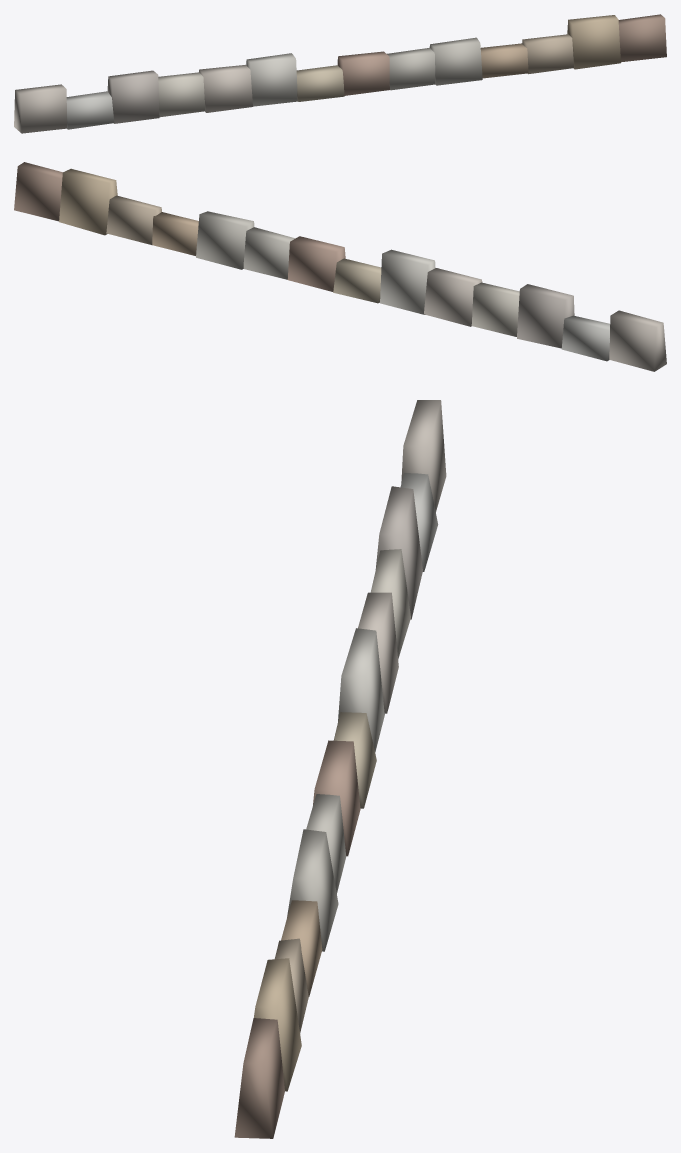
File: farm_2_-3_far.glb
3 views of the same model, one above another, from view 1: azimuth 30°, elevation 25°; view 2: azimuth 150°, elevation 25°; view 3: azimuth 270°, elevation 25° (orthographic). The views are drawn at different scales.
Parts seen in each view (by area): view 1: geometry_0; view 2: geometry_0; view 3: geometry_0.
Boxes of the visible parts, left/top/right/bottom form: geometry_0: left=14, top=14, right=666, bottom=133; geometry_0: left=14, top=162, right=666, bottom=371; geometry_0: left=234, top=400, right=446, bottom=1138.
Size of the model in its own units: 22.19 by 2.67 by 3.37.
